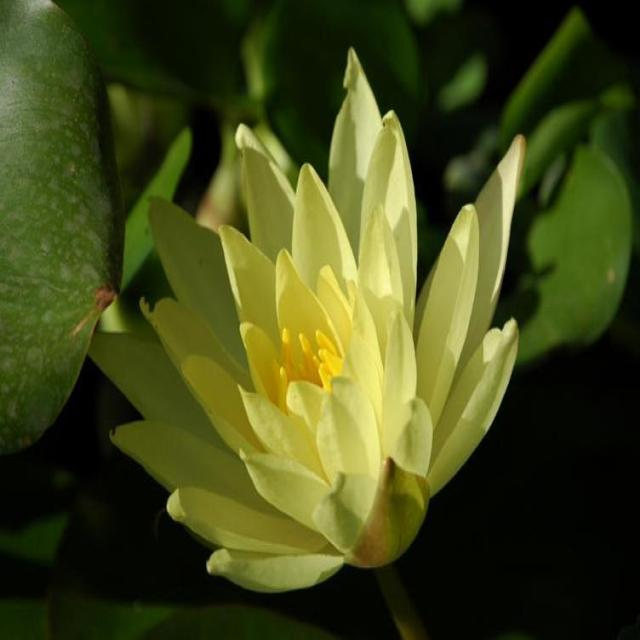rose: (84, 64, 640, 640)
